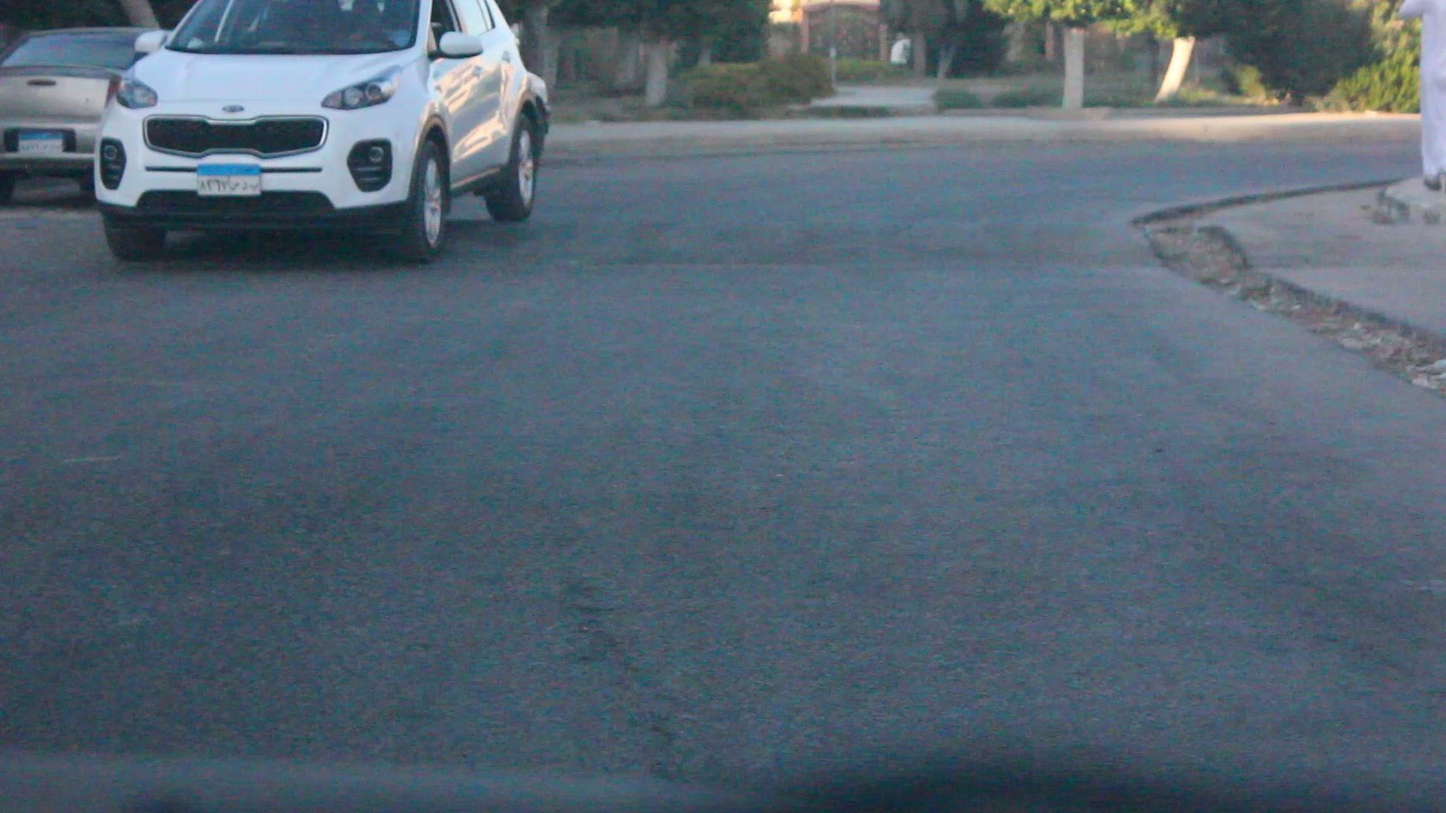Bump: (6, 207, 1179, 286)
